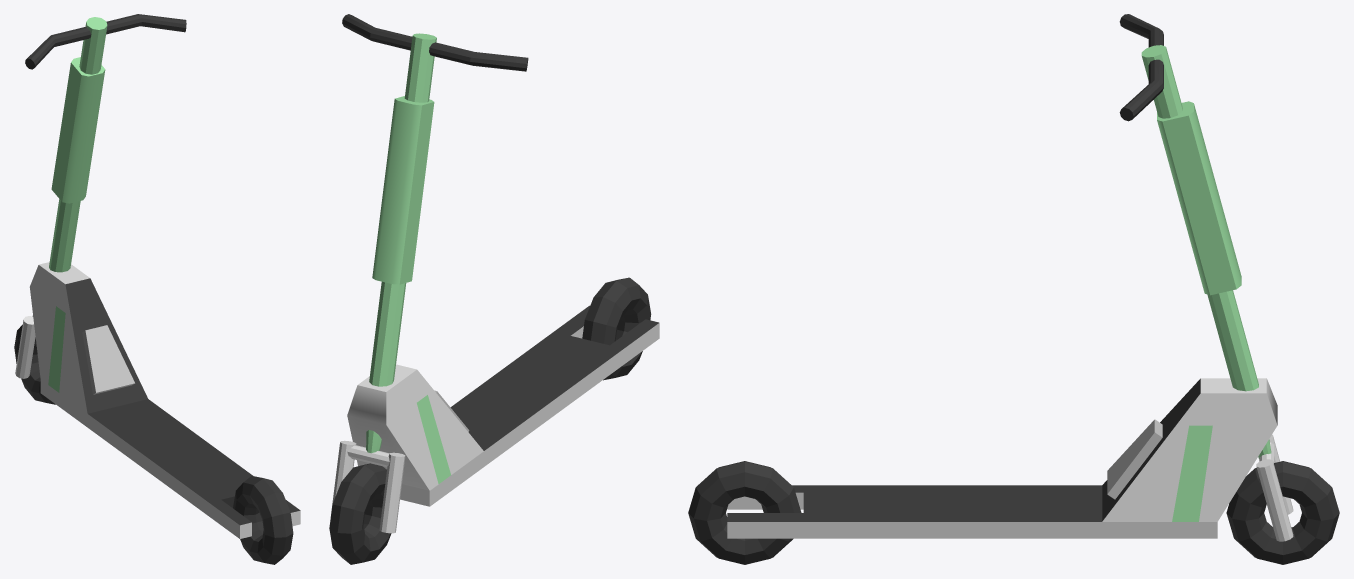
Rendered from Lime Scooter.fbx.
The picture shows the model from 3 angles, left to right: view 1: azimuth 30°, elevation 25°; view 2: azimuth 150°, elevation 25°; view 3: azimuth 270°, elevation 25°; orthographic projection. The views are drawn at different scales.
Parts seen in each view (by area): view 1: pCube1, pCube2, pTorus1, pCylinder1, pCylinder2, pCylinder4, pTorus2; view 2: pCube1, pCube2, pTorus2, pCylinder1, pTorus1, pCylinder2, pCylinder4, pCylinder3, pCylinder5; view 3: pCube1, pCube2, pTorus2, pTorus1, pCylinder1, pCylinder2, pCylinder3.
Part boxes in pixels (x1=…): pCube1: x1=29, y1=262, x2=300, y2=538; pCube2: x1=51, y1=57, x2=105, y2=203; pTorus1: x1=233, y1=476, x2=293, y2=564; pCylinder1: x1=49, y1=17, x2=107, y2=272; pCylinder2: x1=25, y1=14, x2=186, y2=69; pCylinder4: x1=15, y1=316, x2=35, y2=378; pTorus2: x1=14, y1=316, x2=55, y2=404; pCube1: x1=347, y1=305, x2=659, y2=506; pCube2: x1=372, y1=96, x2=434, y2=284; pTorus2: x1=329, y1=463, x2=391, y2=564; pCylinder1: x1=366, y1=33, x2=436, y2=453; pTorus1: x1=582, y1=277, x2=651, y2=380; pCylinder2: x1=342, y1=14, x2=528, y2=71; pCylinder4: x1=379, y1=452, x2=405, y2=533; pCylinder3: x1=330, y1=440, x2=356, y2=516; pCylinder5: x1=347, y1=445, x2=389, y2=467; pCube1: x1=727, y1=378, x2=1277, y2=538; pCube2: x1=1157, y1=101, x2=1241, y2=295; pTorus2: x1=1226, y1=461, x2=1339, y2=564; pTorus1: x1=688, y1=461, x2=801, y2=564; pCylinder1: x1=1141, y1=45, x2=1271, y2=458; pCylinder2: x1=1119, y1=14, x2=1163, y2=121; pCylinder3: x1=1256, y1=459, x2=1293, y2=541.
Size of the model in its own units: 2.63 by 6.59 by 7.55.
